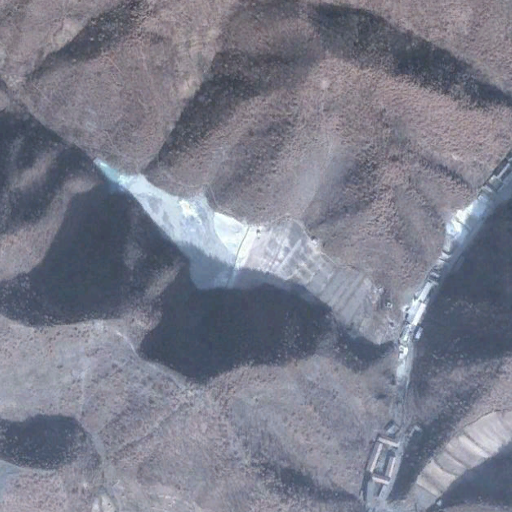tp: (99, 157, 382, 337)
